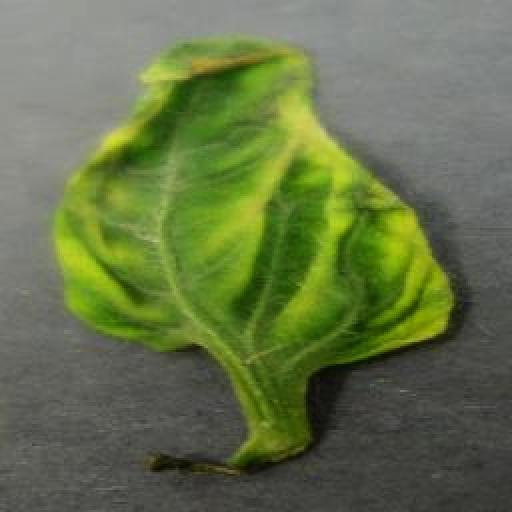disease_tomato: (56, 38, 458, 370)
